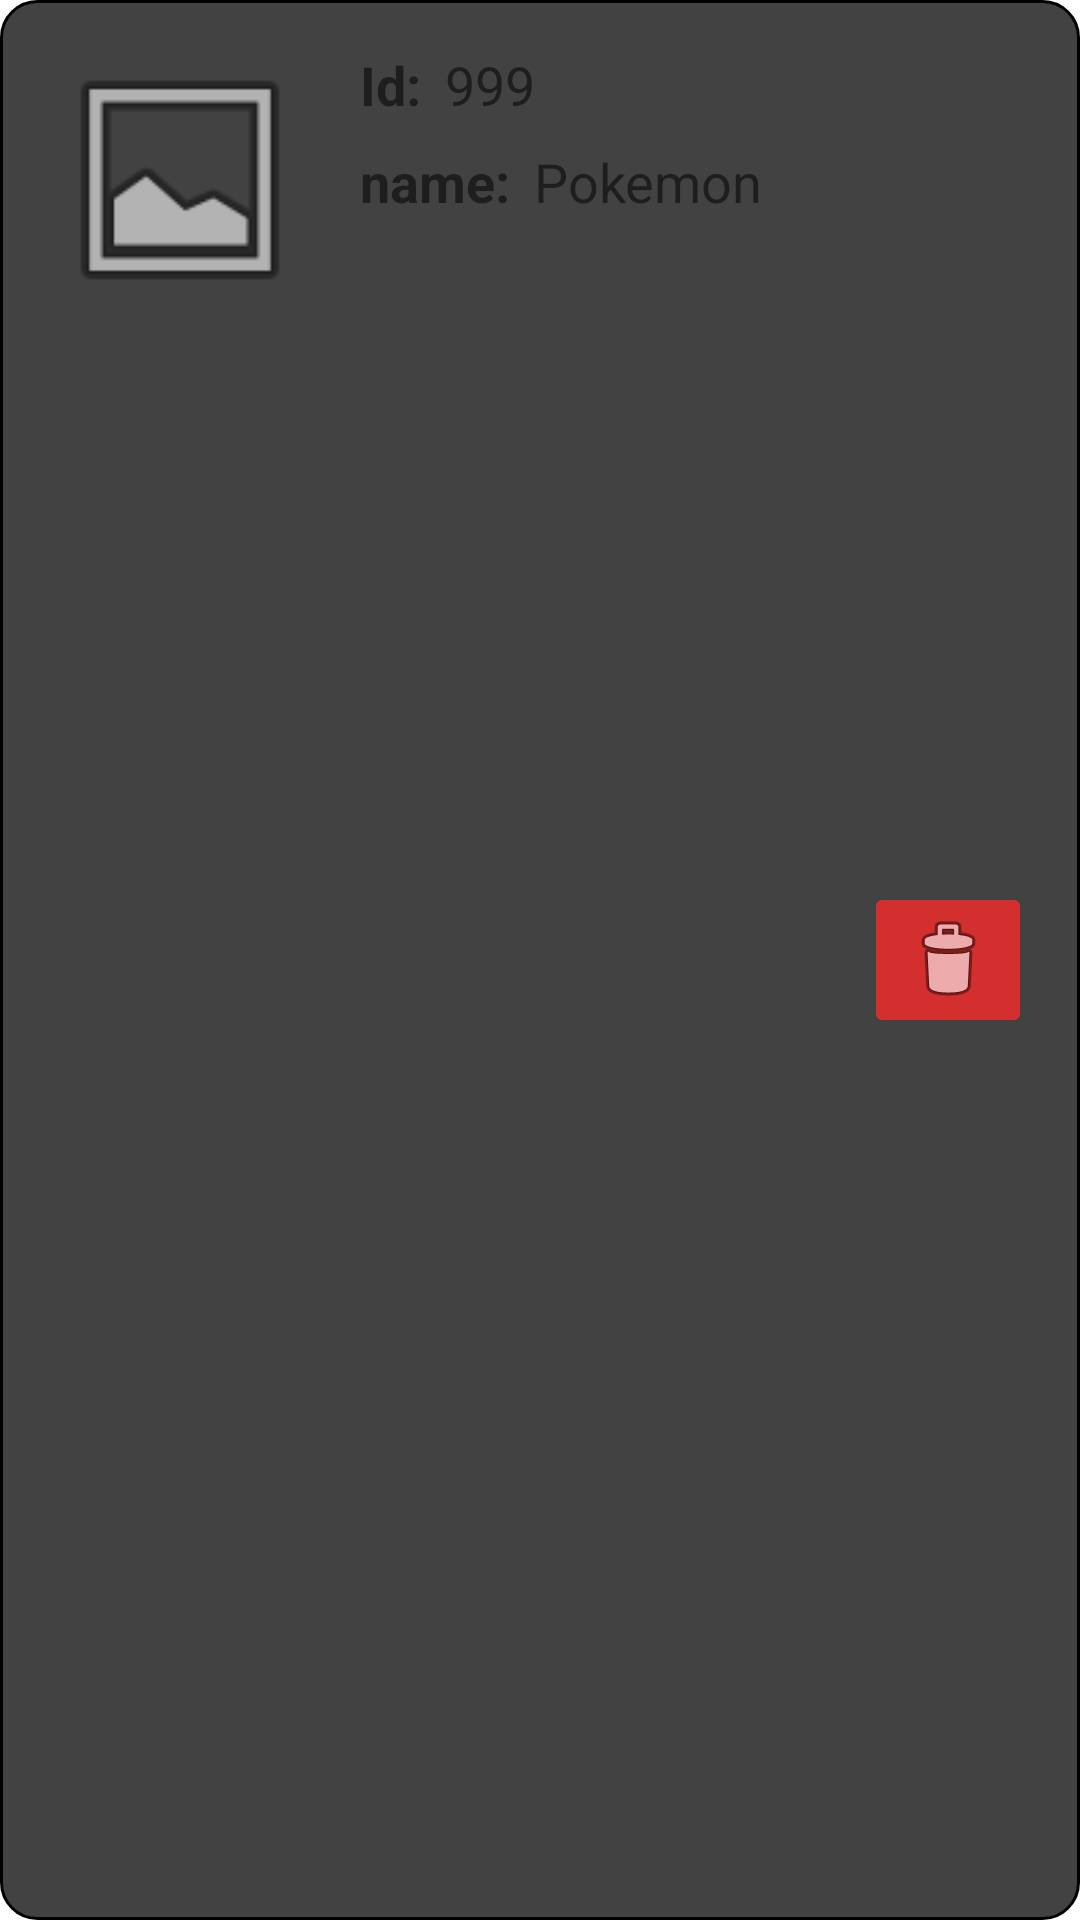

Named icons in this screenshot (1080w x 1920h) and their bounding boxes, [x1,y1,x2,y2]:
Delete from favorite: [876,900,1020,1020]
gallery: [82,82,278,278]
